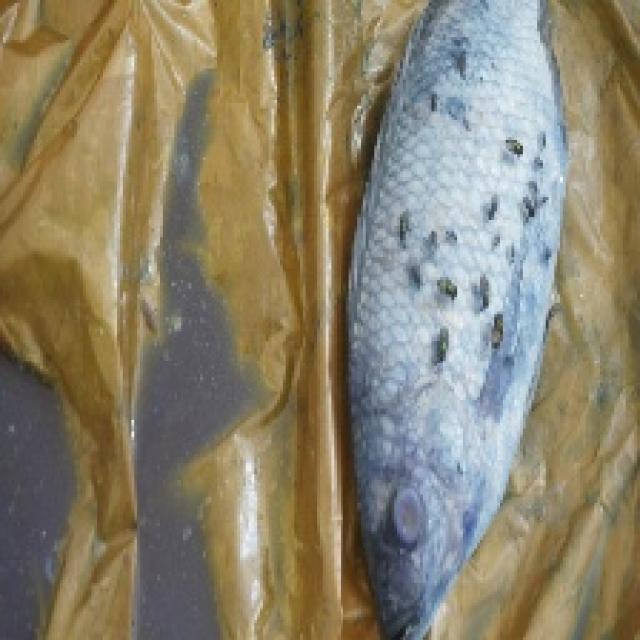Non-Fresh: (390, 2, 554, 478), (382, 477, 432, 570)
